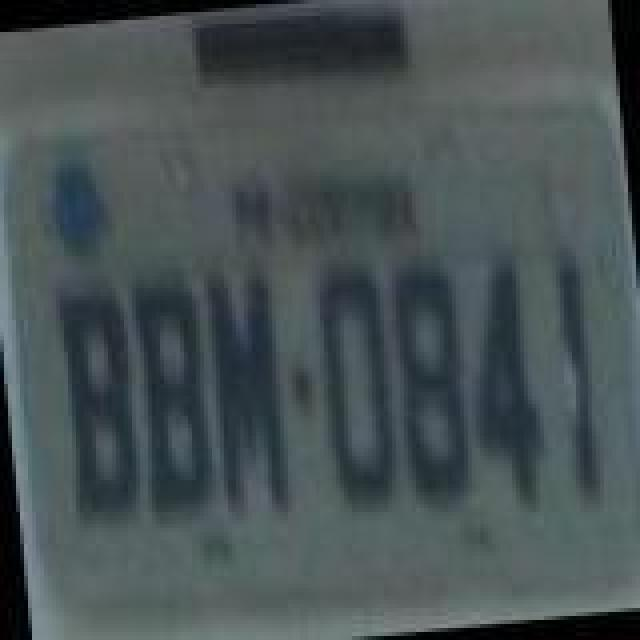1: (544, 248, 608, 504)
4: (456, 242, 552, 510)
8: (386, 256, 478, 512)
B: (52, 282, 148, 526), (122, 274, 214, 518)
M: (202, 260, 294, 524)
O: (312, 266, 408, 518)
